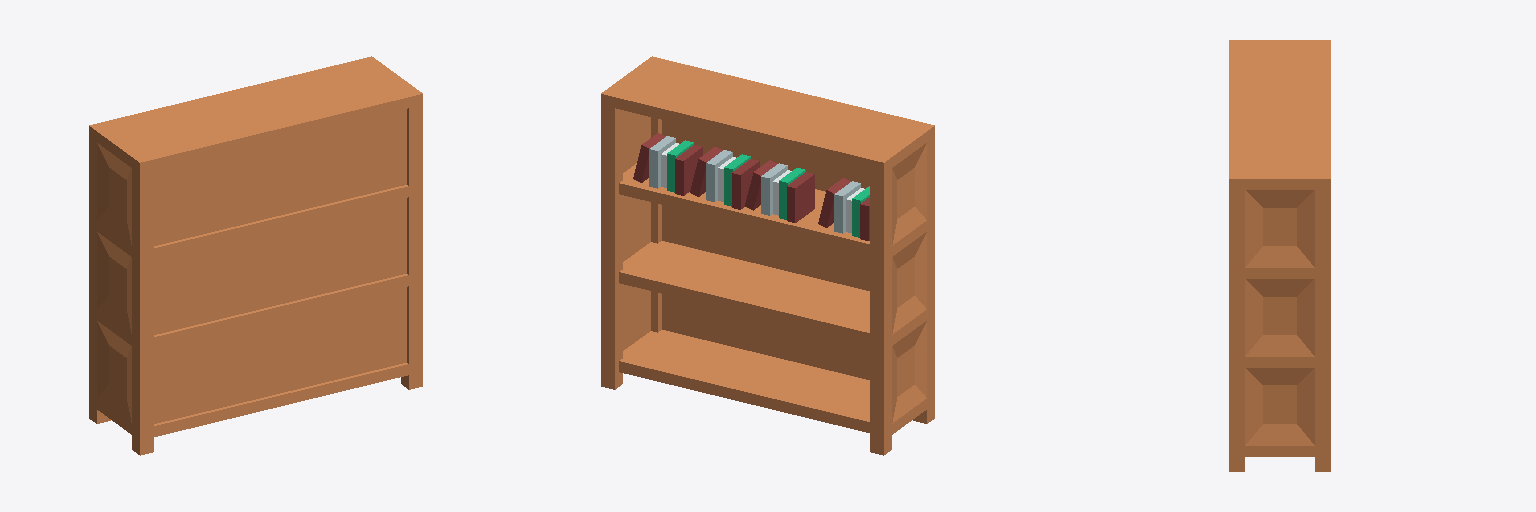
File: bookshelf.obj
3 renders of one model, left to right at view 1: azimuth 30°, elevation 25°; view 2: azimuth 150°, elevation 25°; view 3: azimuth 270°, elevation 25°, orthographic.
Parts seen in each view (by area): view 1: bookcaseClosedWide; view 2: bookcaseClosedWide, books.002, books, books.001, books.003; view 3: bookcaseClosedWide.
Part boxes in pixels (x1,y1,x2,y2): bookcaseClosedWide: (89,56,422,455); bookcaseClosedWide: (601,56,934,455); books.002: (745,160,814,222); books: (633,133,702,195); books.001: (690,147,759,209); books.003: (818,178,869,240); bookcaseClosedWide: (1229,40,1330,471).
Bounding box in the file's own units: 0.8 × 0.79 × 0.25.